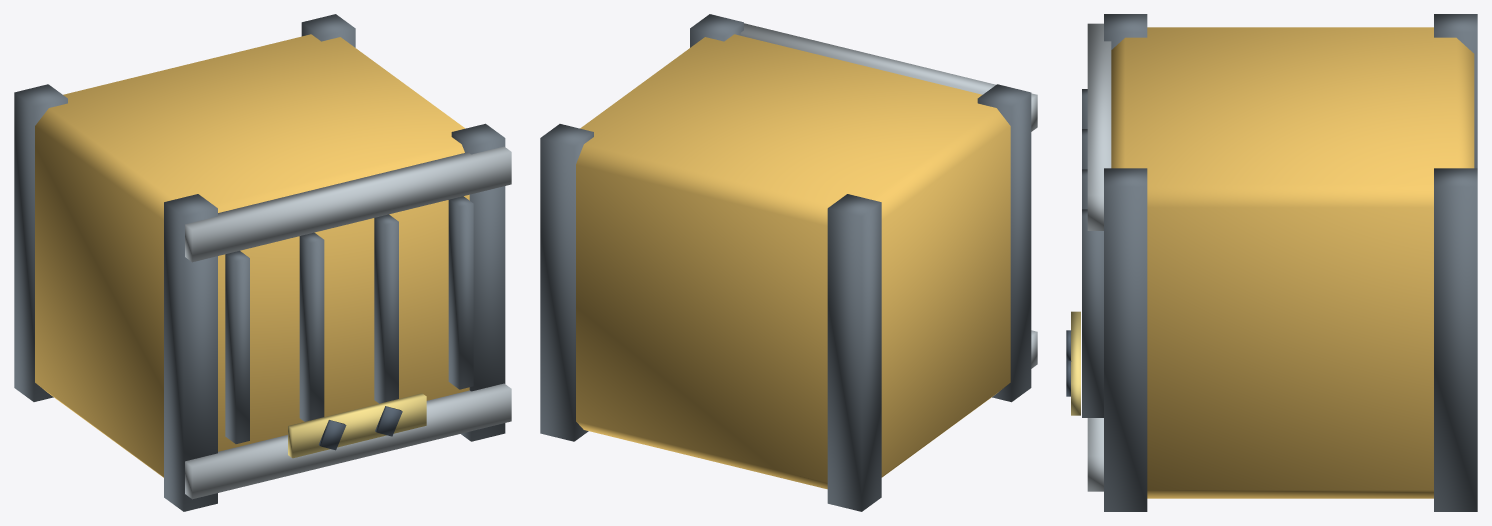
File: toolbox_enhanced.glb
3 views of the same model, side by side, from view 1: azimuth 30°, elevation 25°; view 2: azimuth 150°, elevation 25°; view 3: azimuth 270°, elevation 25° (orthographic). The views are drawn at different scales.
Parts seen in each view (by area): view 1: Container_orange, Frame_dark, Frame_steel, Ribs_dark, Detail_yellow, Detail_black; view 2: Container_orange, Frame_dark, Frame_steel; view 3: Container_orange, Frame_dark, Frame_steel, Ribs_dark, Detail_yellow.
Boxes of the visible parts, x1,y1,x2,y2 form: Container_orange: (35,34,469,477); Frame_dark: (14,14,505,511); Frame_steel: (185,146,511,499); Ribs_dark: (225,196,473,443); Detail_yellow: (288,393,426,458); Detail_black: (318,406,402,450); Container_orange: (576,34,1010,489); Frame_dark: (540,14,1031,511); Frame_steel: (740,23,1037,368); Container_orange: (1111,27,1474,498); Frame_dark: (1104,14,1477,511); Frame_steel: (1087,23,1111,491); Ribs_dark: (1082,89,1103,417); Detail_yellow: (1071,311,1080,415).
Size of the model in its own units: 1.04 by 0.91 by 1.04.
